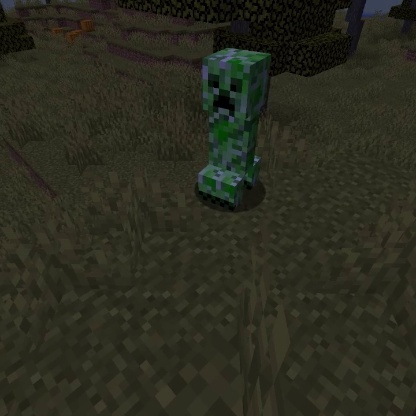creeper: (194, 44, 276, 216)
